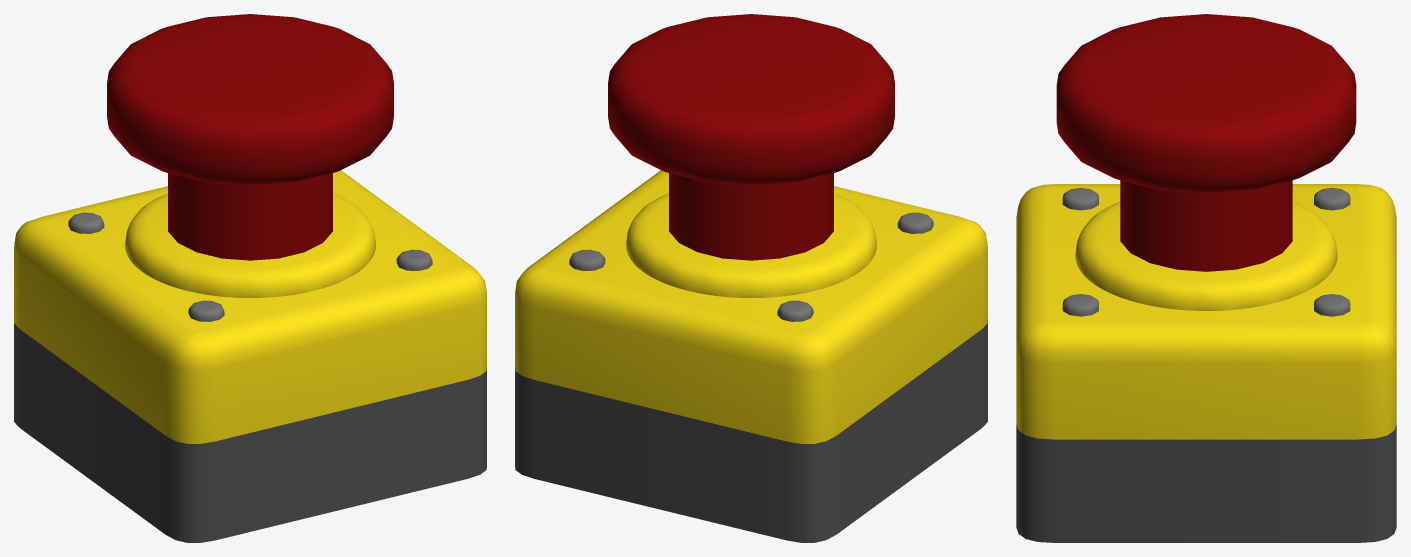
File: button.fbx
The picture shows the model from 3 angles, left to right: view 1: azimuth 30°, elevation 25°; view 2: azimuth 150°, elevation 25°; view 3: azimuth 270°, elevation 25°; orthographic projection. The views are drawn at different scales.
Parts seen in each view (by area): view 1: Box top, Button top; view 2: Box top, Button top; view 3: Box top, Button top.
Part boxes in pixels (box(x1,y1,x2,y2)): Box top: box(14, 170, 486, 542); Button top: box(107, 14, 393, 260); Box top: box(515, 170, 987, 542); Button top: box(608, 14, 894, 260); Box top: box(1016, 184, 1396, 542); Button top: box(1056, 14, 1356, 271).
Bounding box in the file's own units: 50 × 57 × 50.
